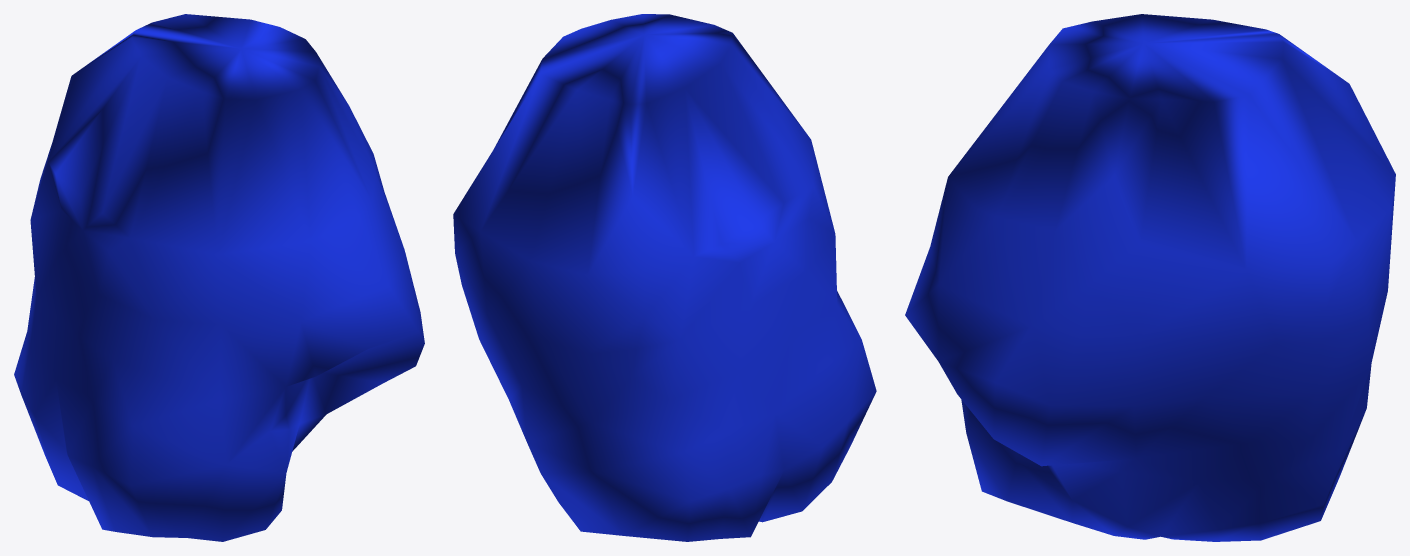
Rendered from Turtleneck righthand.fbx.
3 views of the same model, side by side, from view 1: azimuth 30°, elevation 25°; view 2: azimuth 150°, elevation 25°; view 3: azimuth 270°, elevation 25° (orthographic). The views are drawn at different scales.
Parts seen in each view (by area): view 1: FixedGloves; view 2: FixedGloves; view 3: FixedGloves.
Boxes of the visible parts, x1,y1,x2,y2 form: FixedGloves: (14, 14, 424, 541); FixedGloves: (453, 14, 876, 541); FixedGloves: (905, 14, 1395, 541).
Size of the model in its own units: 9.72 by 13.91 by 12.02.
